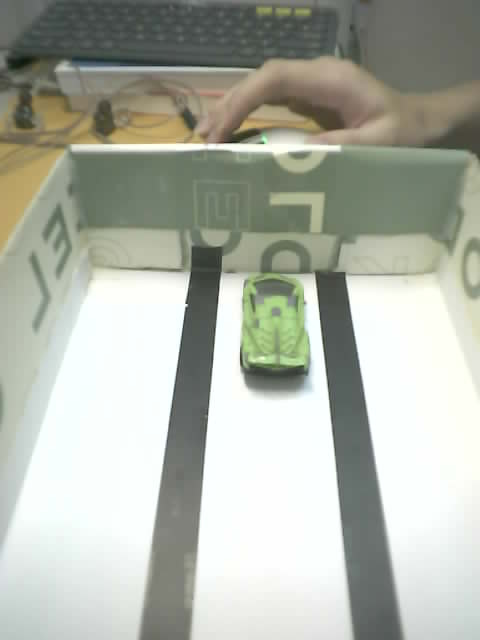vehicle: (240, 275, 311, 397)
